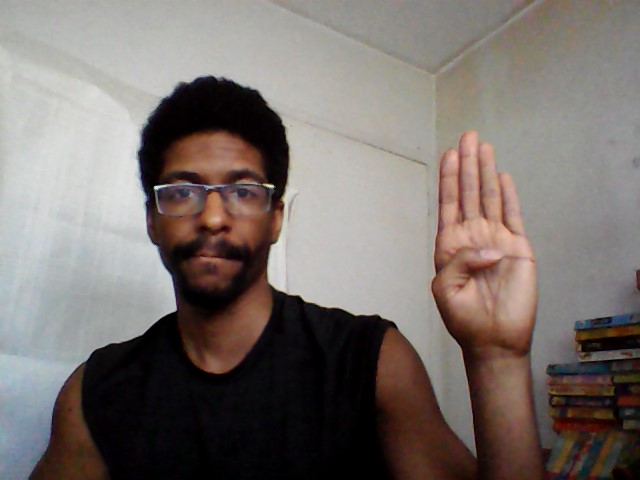b: (430, 124, 546, 360)
